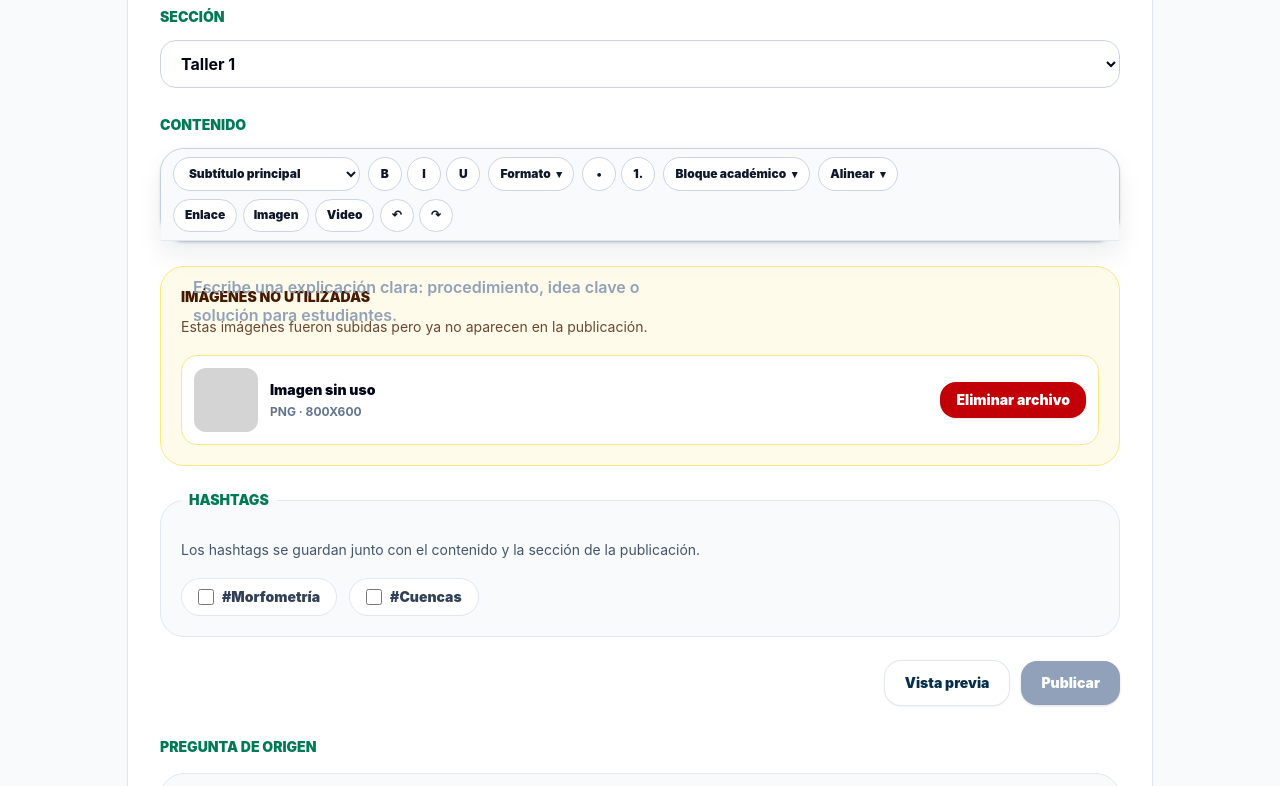
AdminPostEditorView › deletes an unused post image through the admin endpoint and updates local image state
(page scrolled)
Click the button "Eliminar archivo" at (1013, 400), box [940,382,1086,418]
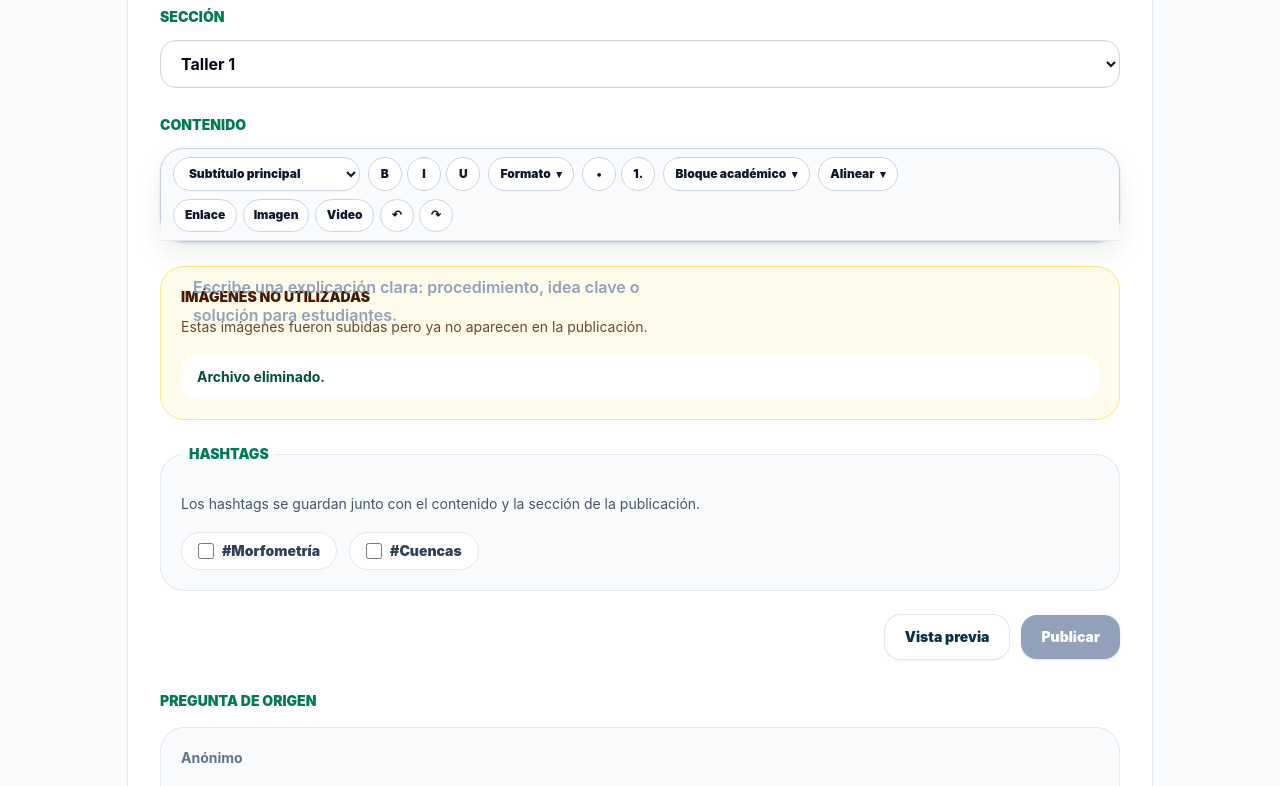
Check: the text "Archivo eliminado." is shown, box [181,355,1099,399]
